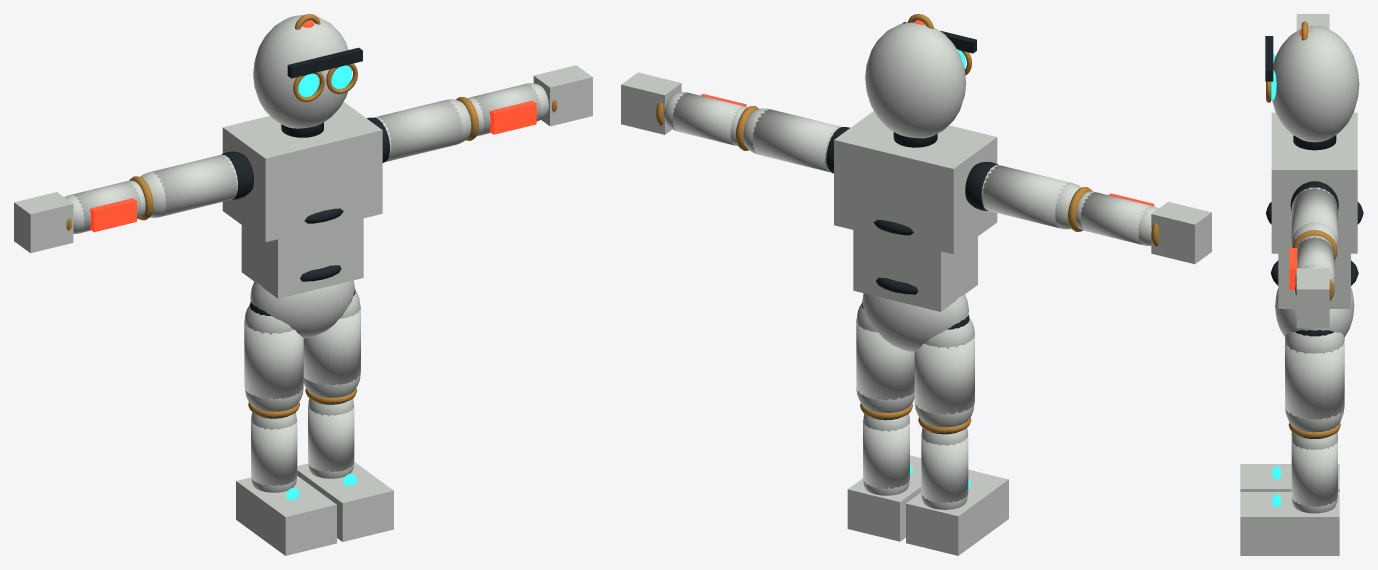
File: mimic-mixamo-source.fbx
3 renders of one model, left to right at view 1: azimuth 30°, elevation 25°; view 2: azimuth 150°, elevation 25°; view 3: azimuth 270°, elevation 25°, orthographic. The views are drawn at different scales.
Visible parts, largest first — view 1: FoldSeek_Mimic_Upload; view 2: FoldSeek_Mimic_Upload; view 3: FoldSeek_Mimic_Upload.
Part boxes in pixels (<box>): FoldSeek_Mimic_Upload: <box>14,14,592,555</box>; FoldSeek_Mimic_Upload: <box>621,14,1211,555</box>; FoldSeek_Mimic_Upload: <box>1240,14,1363,555</box>.
Bounding box in the file's own units: 197 × 169 × 37.3.
